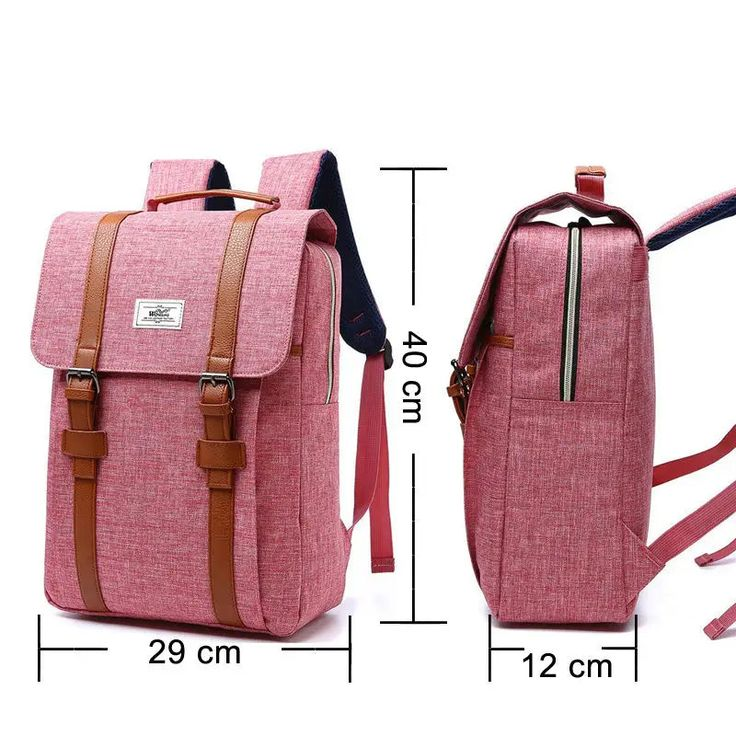nylon: (31, 150, 736, 641)
